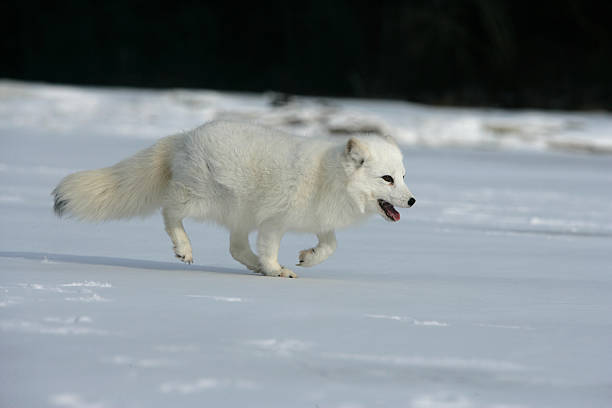arcticfox: (348, 145, 419, 229)
